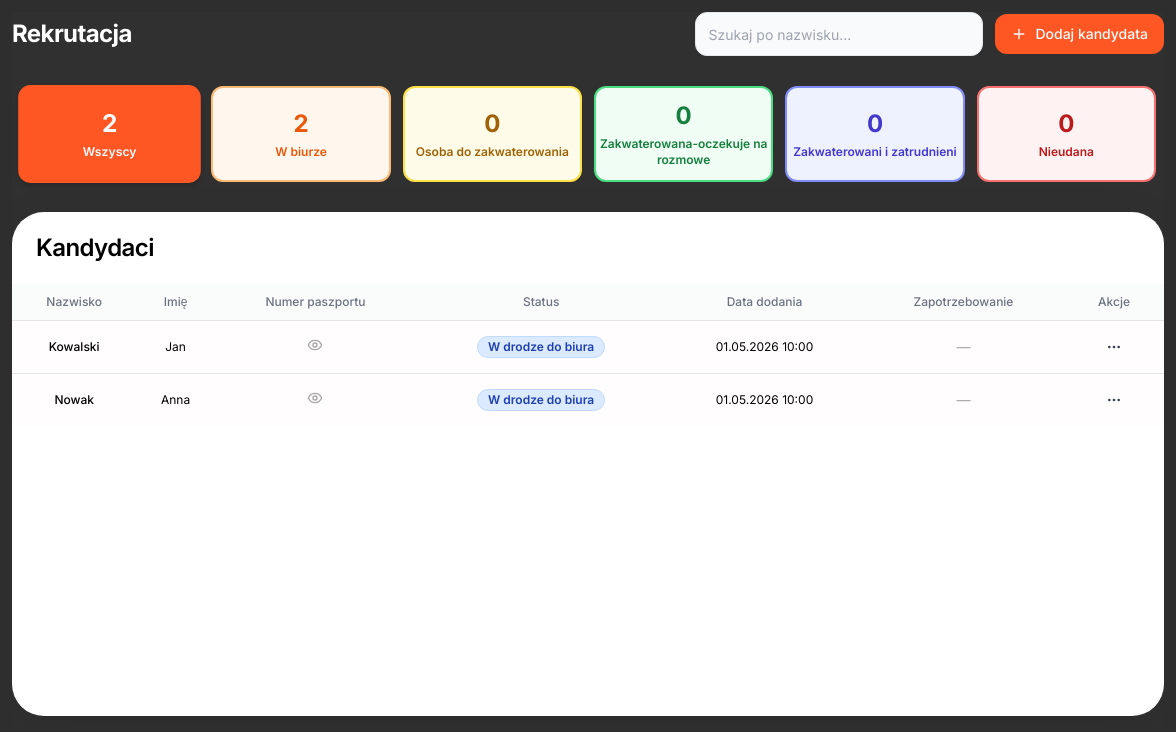
Test case: RecruitmentView › filters candidates by last name
The width and height of the screenshot is (1176, 732).
Expected: the text "Kowalski" is shown, [12, 320, 136, 373]
Type "now" into the field with placeholder "Szukaj po nazwisku...".
click(840, 34); type("now")  # box [696, 12, 984, 56]
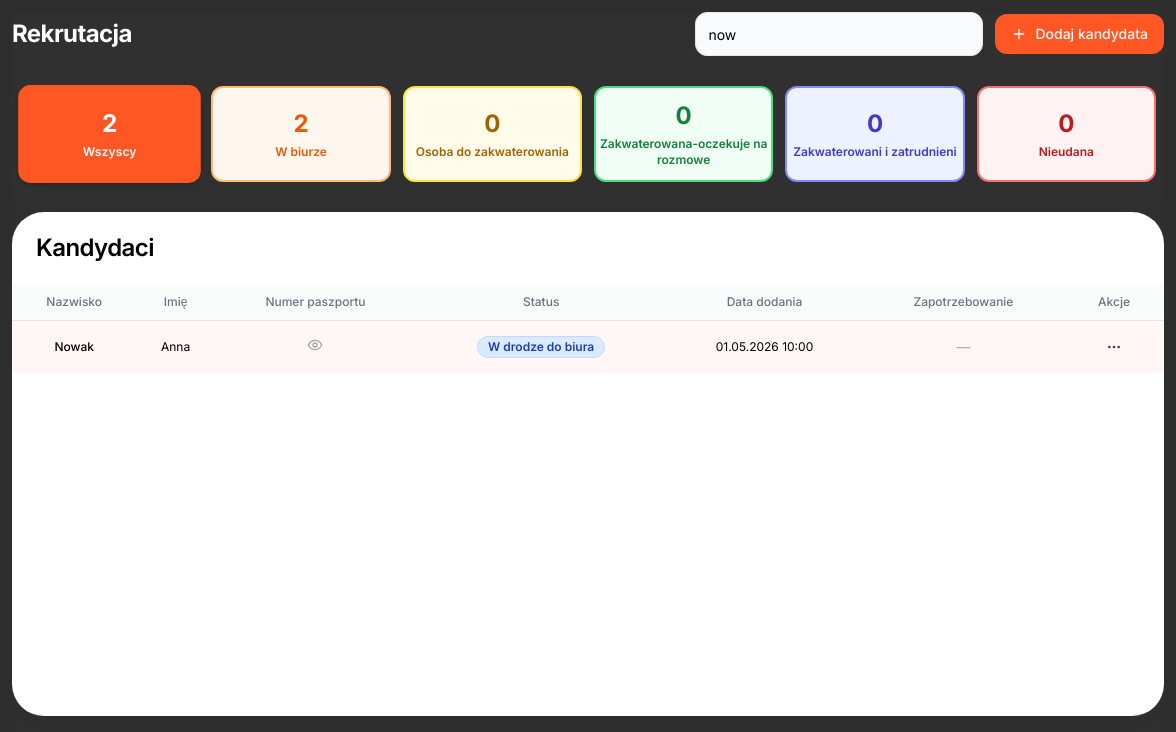
Expected: the text "Nowak" is shown, [12, 320, 136, 372]
Now the text "Kowalski" is gone
